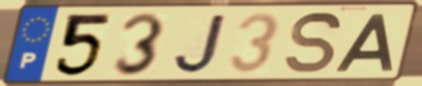3: (112, 11, 168, 78), (229, 10, 285, 76)
5: (52, 11, 117, 79)
A: (332, 12, 395, 73)
J: (171, 12, 231, 76)
S: (283, 10, 345, 76)
